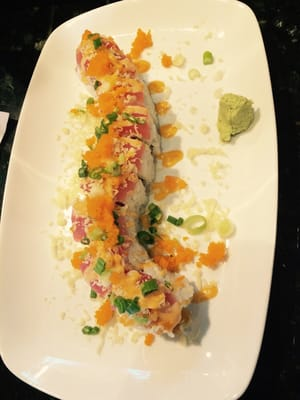sandwich: (5, 2, 289, 385), (38, 4, 242, 351)
